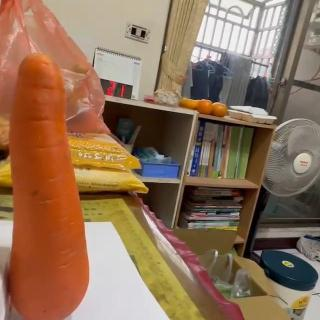carrot: (10, 53, 92, 320)
